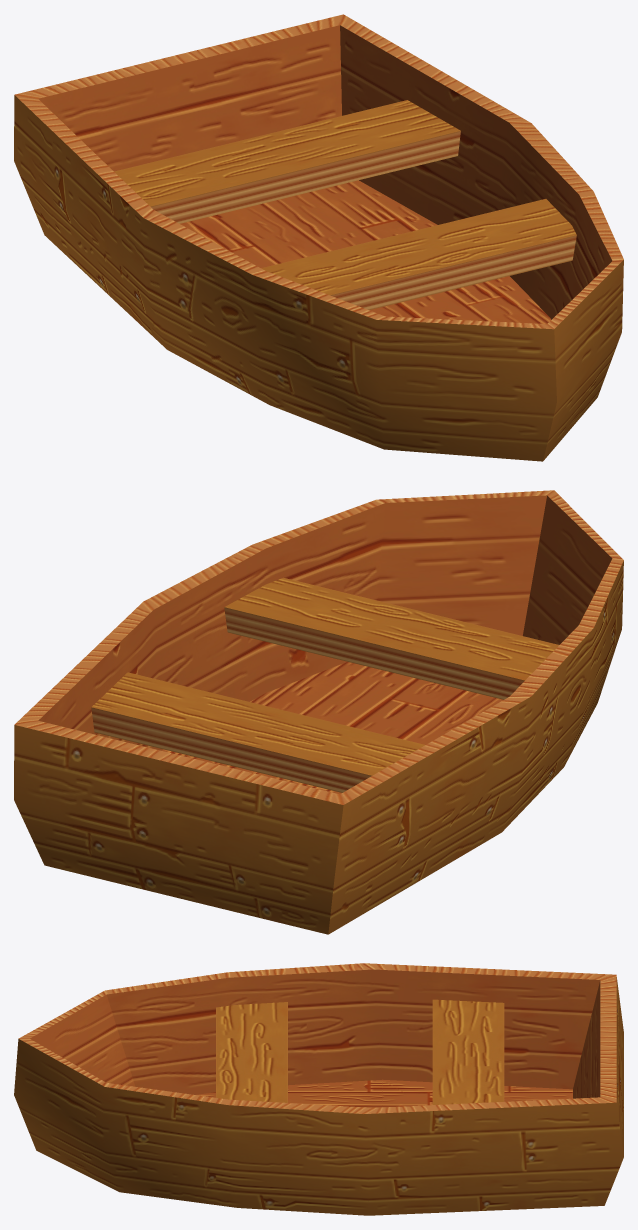
Rendered from boat.fbx.
3 renders of one model, top to bottom at view 1: azimuth 30°, elevation 25°; view 2: azimuth 150°, elevation 25°; view 3: azimuth 270°, elevation 25°, orthographic. The views are drawn at different scales.
Visible parts, largest first — view 1: boat; view 2: boat; view 3: boat.
Part boxes in pixels (x1=…): boat: x1=14, y1=14, x2=623, y2=461; boat: x1=14, y1=490, x2=623, y2=934; boat: x1=14, y1=963, x2=623, y2=1215.
Bounding box in the file's own units: 543 × 188 × 928.
Materials: 1 (1 with a texture image).
